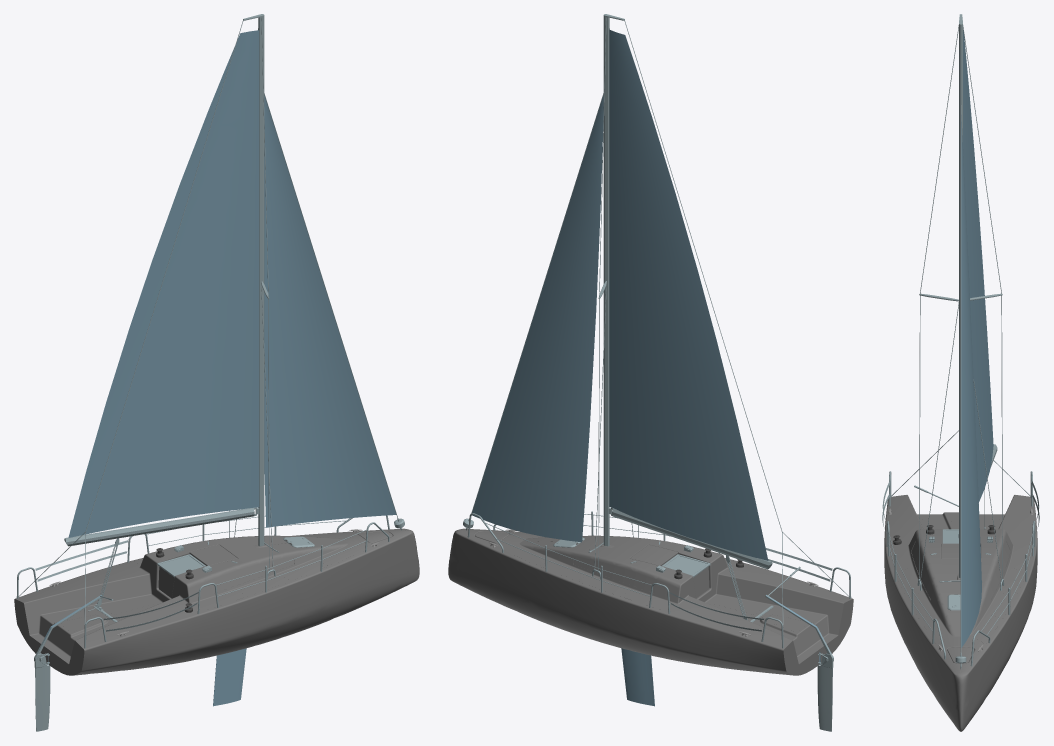
File: boat-1.gltf
3 views of the same model, side by side, from view 1: azimuth 30°, elevation 25°; view 2: azimuth 150°, elevation 25°; view 3: azimuth 270°, elevation 25° (orthographic). The views are drawn at different scales.
Visible parts, largest first — view 1: main sail, COMPOUND014, COMPOUND016, COMPOUND041, mast, boom, finkeel, COMPOUND004, COMPOUND019; view 2: main sail, COMPOUND041, COMPOUND014, COMPOUND016, mast, finkeel, boom, COMPOUND004, COMPOUND019; view 3: COMPOUND016, COMPOUND041, COMPOUND014, main sail, mast, sztag, COMPOUND023, COMPOUND025, COMPOUND022, COMPOUND026, COMPOUND027.
Part boxes in pixels (x1,y1,x2,y2): main sail: (68,30,259,537); COMPOUND014: (264,95,396,527); COMPOUND016: (49,530,419,675); COMPOUND041: (14,528,409,664); mast: (243,14,264,546); boom: (64,508,256,546); finkeel: (213,648,246,706); COMPOUND004: (34,654,50,731); COMPOUND019: (85,19,243,531); main sail: (609,29,768,560); COMPOUND041: (448,530,818,675); COMPOUND014: (472,95,603,542); COMPOUND016: (458,528,853,664); mast: (603,14,624,546); finkeel: (621,648,654,706); boom: (611,508,772,569); COMPOUND004: (817,654,833,731); COMPOUND019: (624,19,782,531); COMPOUND016: (884,495,960,731); COMPOUND041: (961,495,1037,731); COMPOUND014: (961,115,981,647); main sail: (963,30,993,502); mast: (959,14,962,577); sztag: (955,105,966,668); COMPOUND023: (919,295,920,578); COMPOUND025: (1001,295,1002,578); COMPOUND022: (920,302,958,581); COMPOUND026: (920,25,958,293); COMPOUND027: (963,25,1001,293).
Size of the model in its own units: 7.6 by 12.82 by 2.57.
